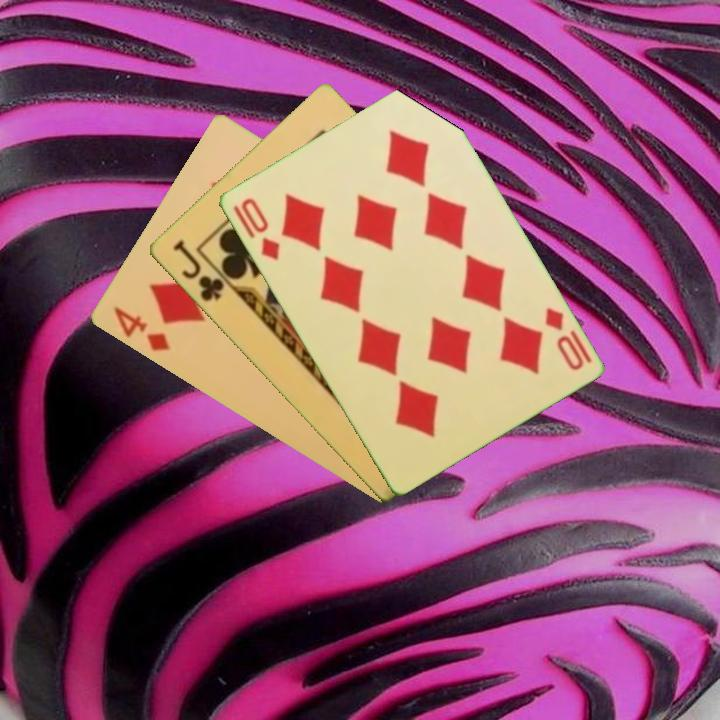10d: (540, 303, 586, 374), (237, 194, 283, 264)
4d: (109, 303, 172, 355)
Jc: (168, 236, 227, 305)
